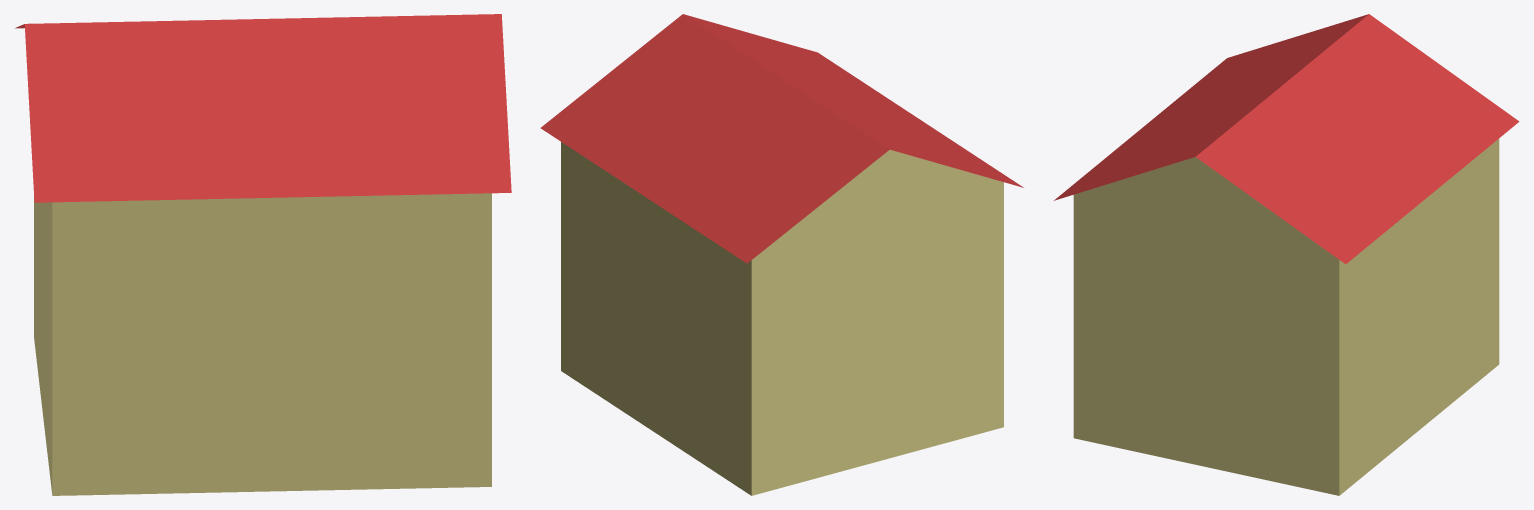
3 views of the same model, side by side, from view 1: azimuth 30°, elevation 25°; view 2: azimuth 150°, elevation 25°; view 3: azimuth 270°, elevation 25° (orthographic). The views are drawn at different scales.
Size of the model in its own units: 16.33 by 15.59 by 11.62.
